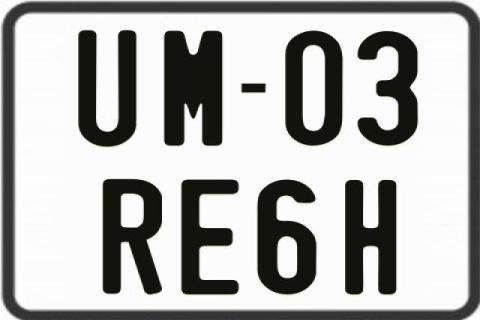0: (254, 180, 318, 299), (359, 32, 424, 146), (285, 28, 347, 146)
E: (181, 178, 239, 292)
H: (342, 180, 398, 294)
M: (164, 30, 225, 148)
R: (102, 177, 167, 297)
U: (78, 29, 141, 145)
